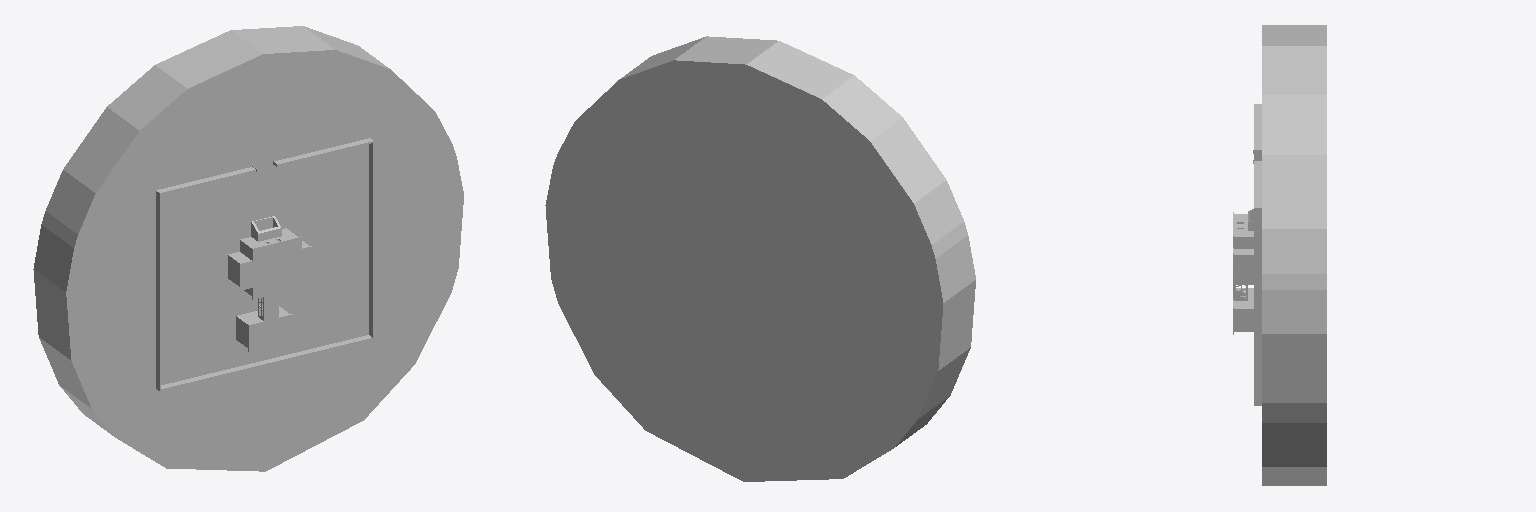
The model's file is lab_0000_dec.obj.
3 renders of one model, left to right at view 1: azimuth 30°, elevation 25°; view 2: azimuth 150°, elevation 25°; view 3: azimuth 270°, elevation 25°, orthographic.
Visible parts, largest first — view 1: RENDER.013_Cube.078; view 2: RENDER.013_Cube.078; view 3: RENDER.013_Cube.078.
Boxes of the visible parts, x1=… form: RENDER.013_Cube.078: x1=33, y1=26, x2=463, y2=471; RENDER.013_Cube.078: x1=545, y1=36, x2=975, y2=481; RENDER.013_Cube.078: x1=1233, y1=25, x2=1326, y2=485.
Size of the model in its own units: 2893 by 2905 by 592.